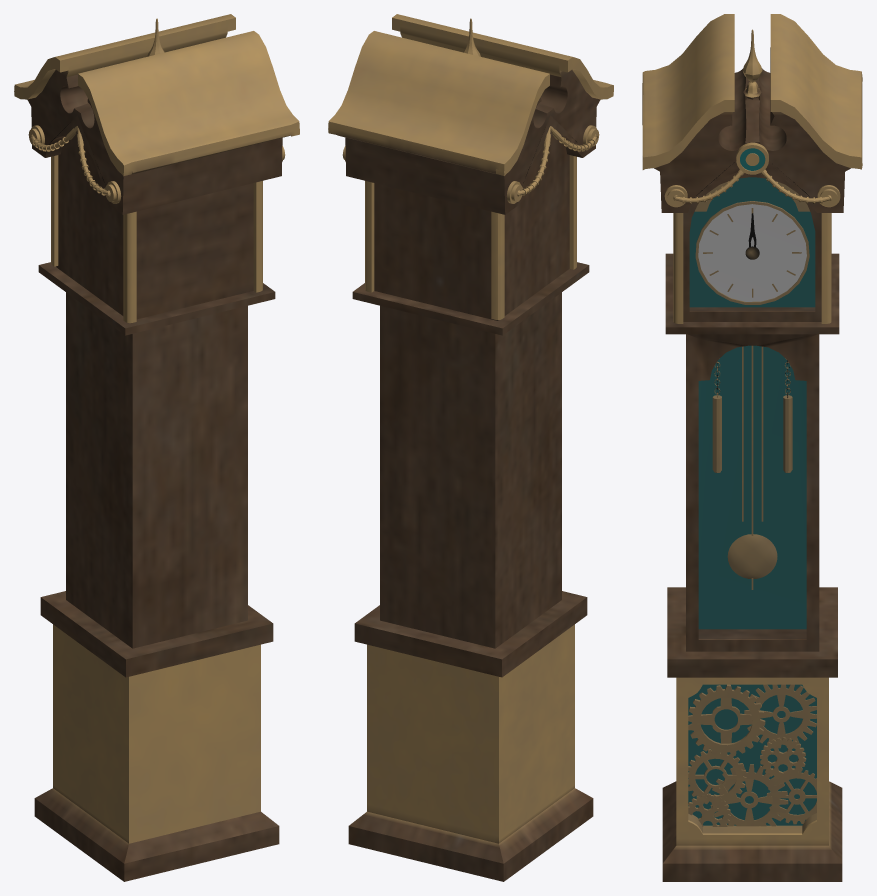
File: antique_grandfather_clock_-_steampunk_style.glb
The picture shows the model from 3 angles, left to right: view 1: azimuth 30°, elevation 25°; view 2: azimuth 150°, elevation 25°; view 3: azimuth 270°, elevation 25°; orthographic projection.
Visible parts, largest first — view 1: zegar_Baked; view 2: zegar_Baked; view 3: zegar_Baked, object 1.
Part boxes in pixels (x1,y1,x2,y2): zegar_Baked: [14, 14, 299, 881]; zegar_Baked: [328, 14, 613, 881]; zegar_Baked: [642, 14, 862, 881]; object 1: [688, 177, 816, 832].
Size of the model in its own units: 0.8995 by 3.83 by 0.9378.
2 materials, 2 textured.
